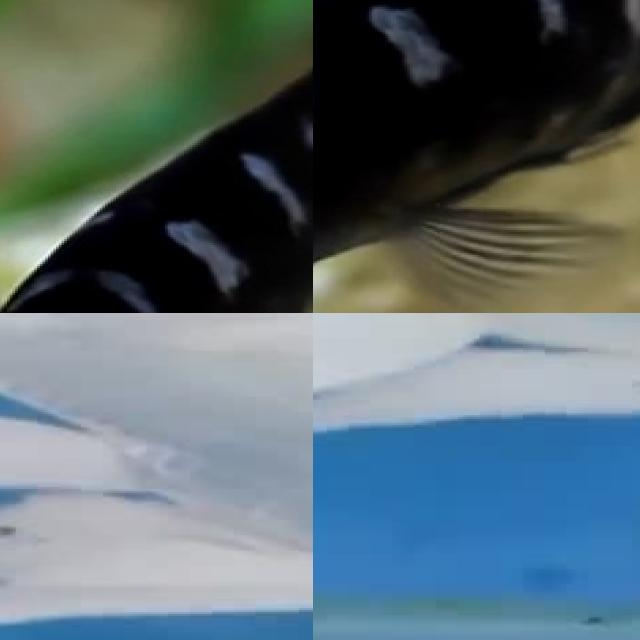fish: (0, 0, 313, 313), (313, 313, 640, 396)
